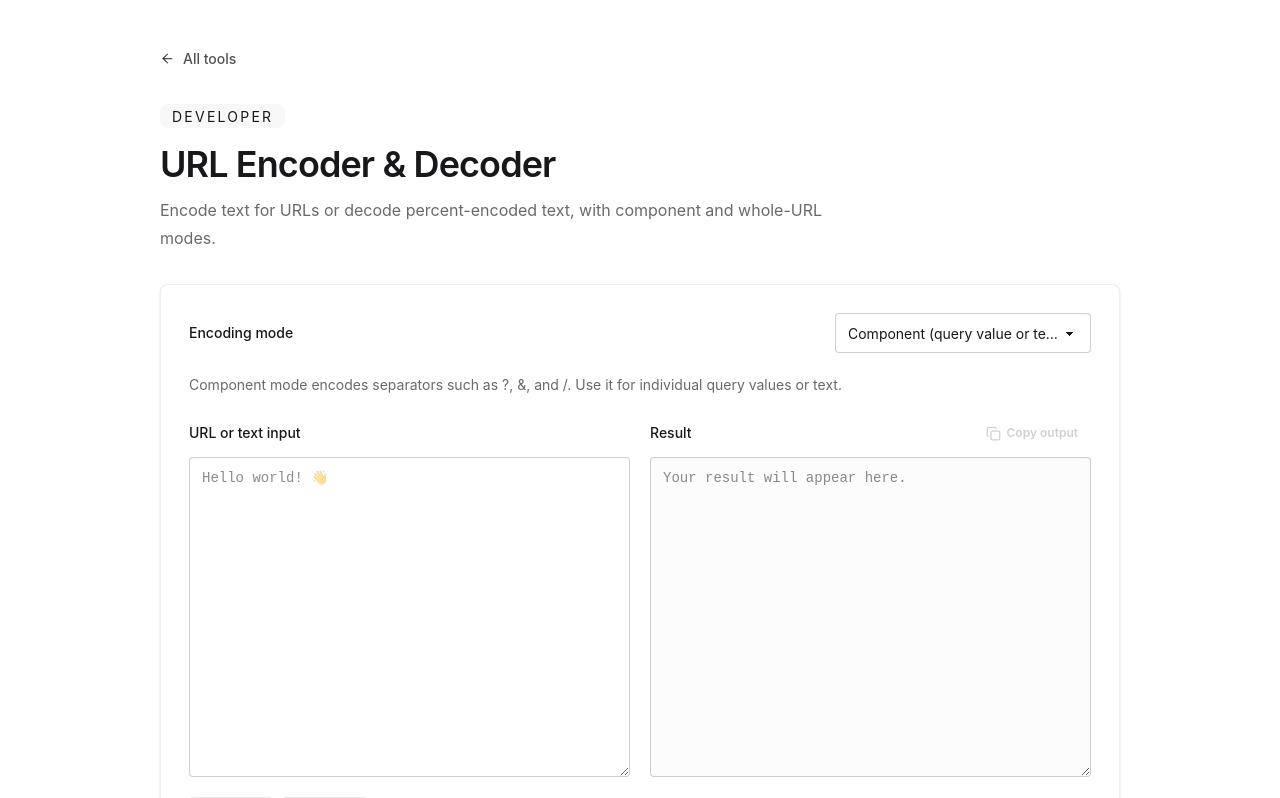
Test: defaults to component encoding and reuses output to decode
Type "a+b 👋" into the text box labelled "URL or text input".
click(410, 617); type("a+b 👋")  # box [189,457,630,777]
(page scrolled)
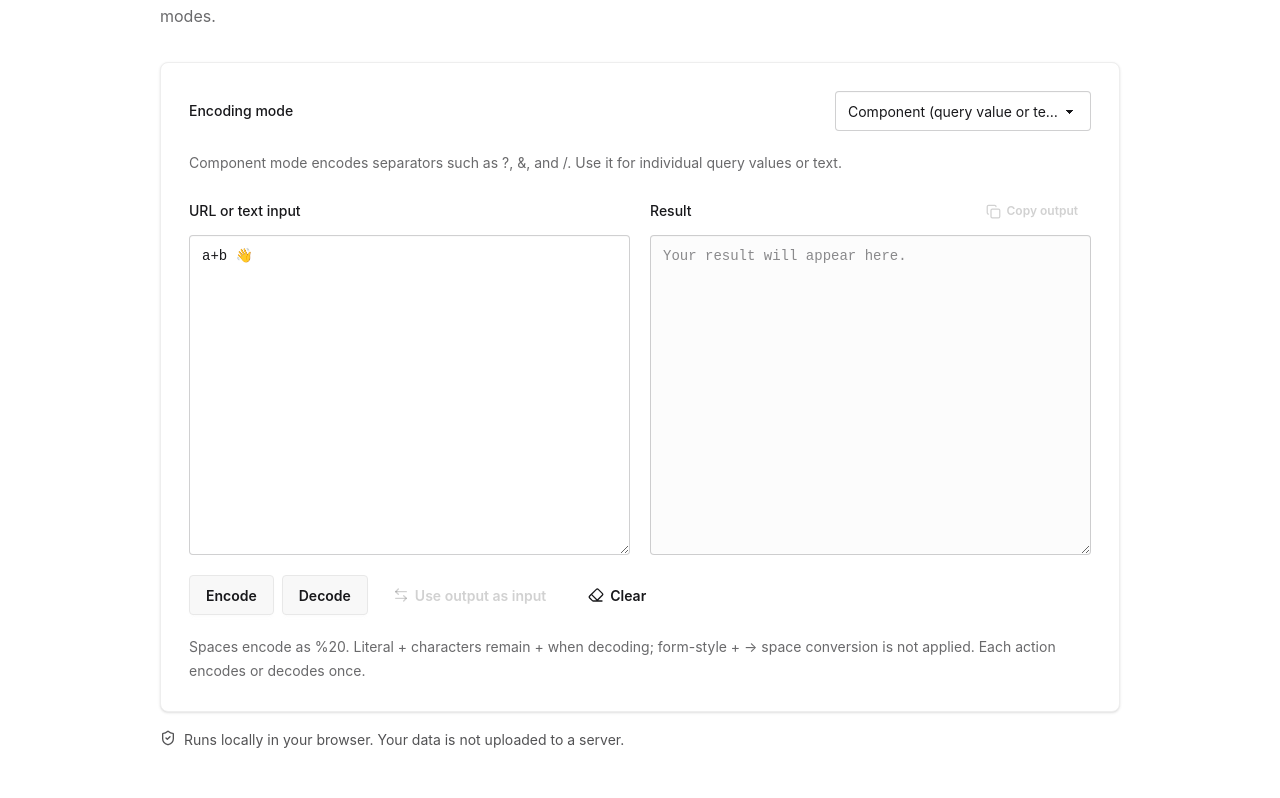
Click the button "Encode".
click(231, 595)  # box [189,575,274,615]
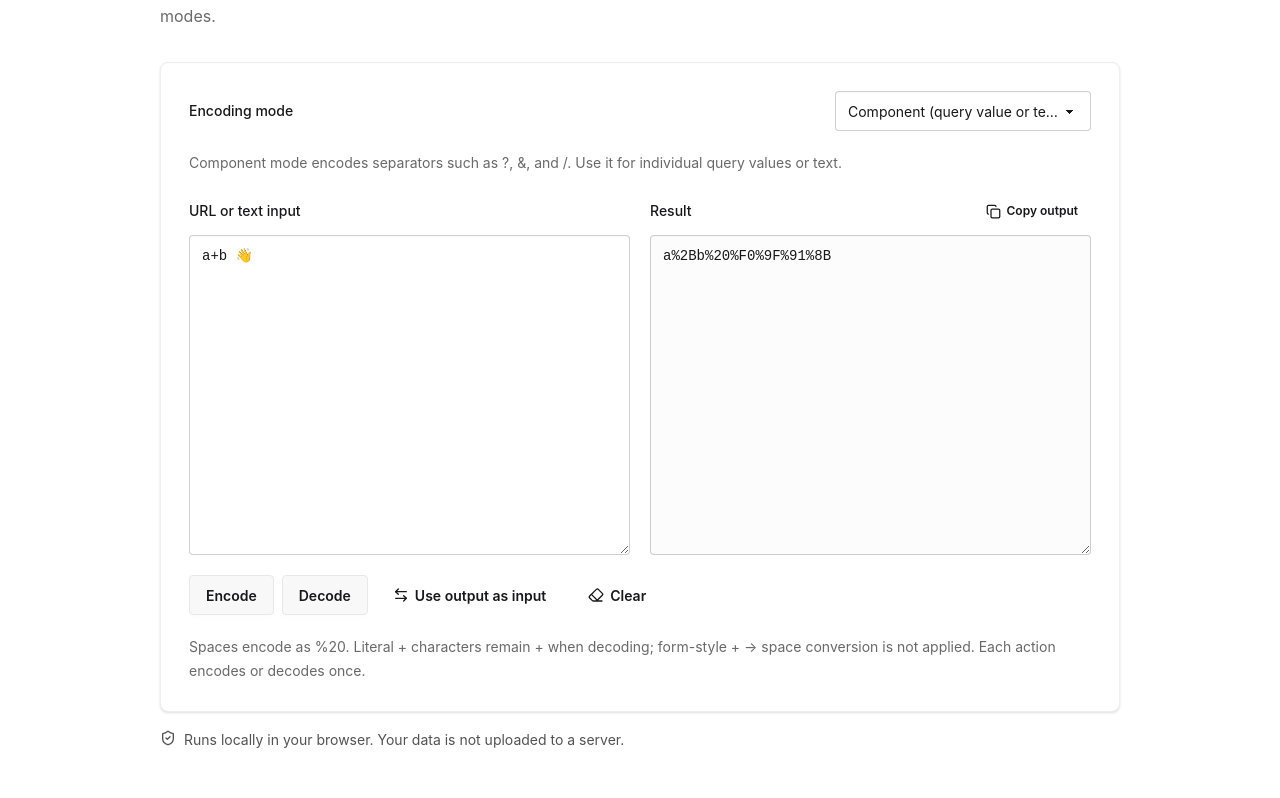
Expected: the text box labelled "Result" holds "a%2Bb%20%F0%9F%91%8B", [650,235,1091,555]
Click the button "Use output as input".
click(470, 595)  # box [376,575,563,615]
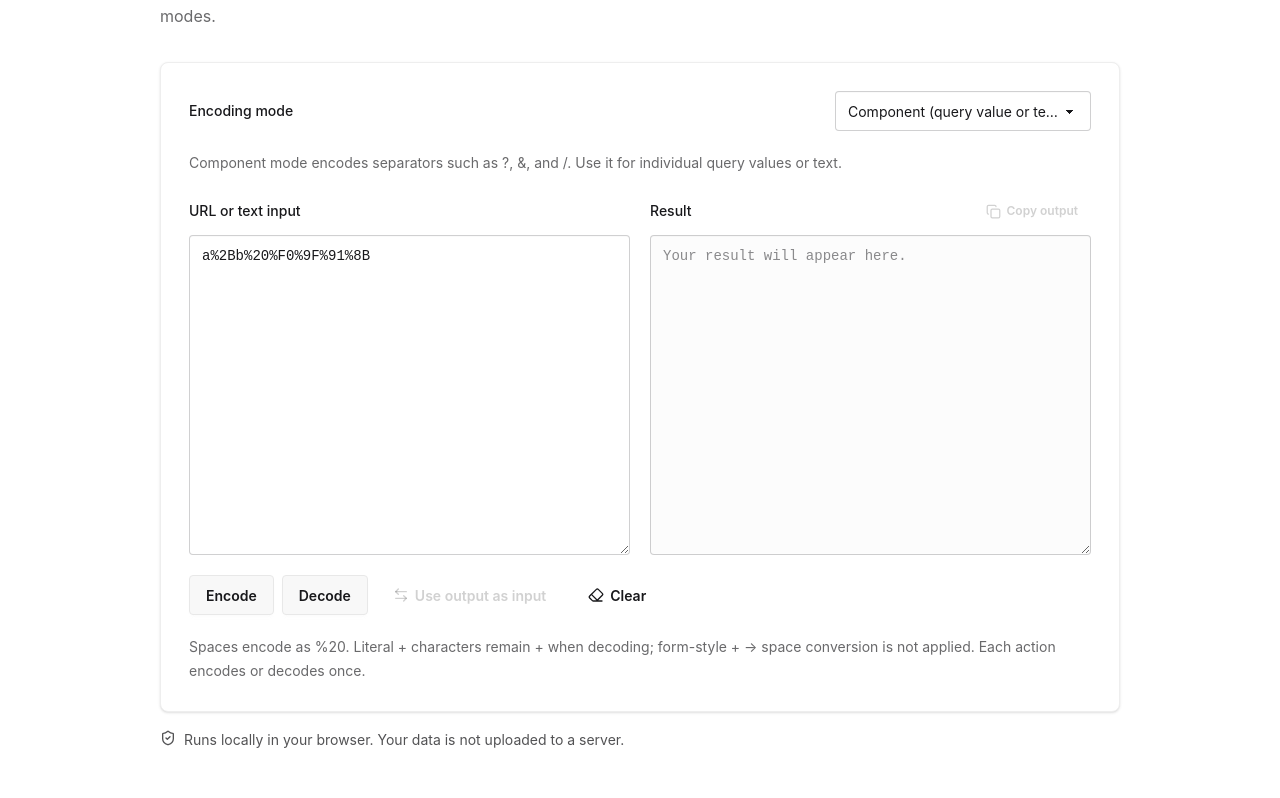
Click the button "Decode".
click(325, 595)  # box [282,575,368,615]
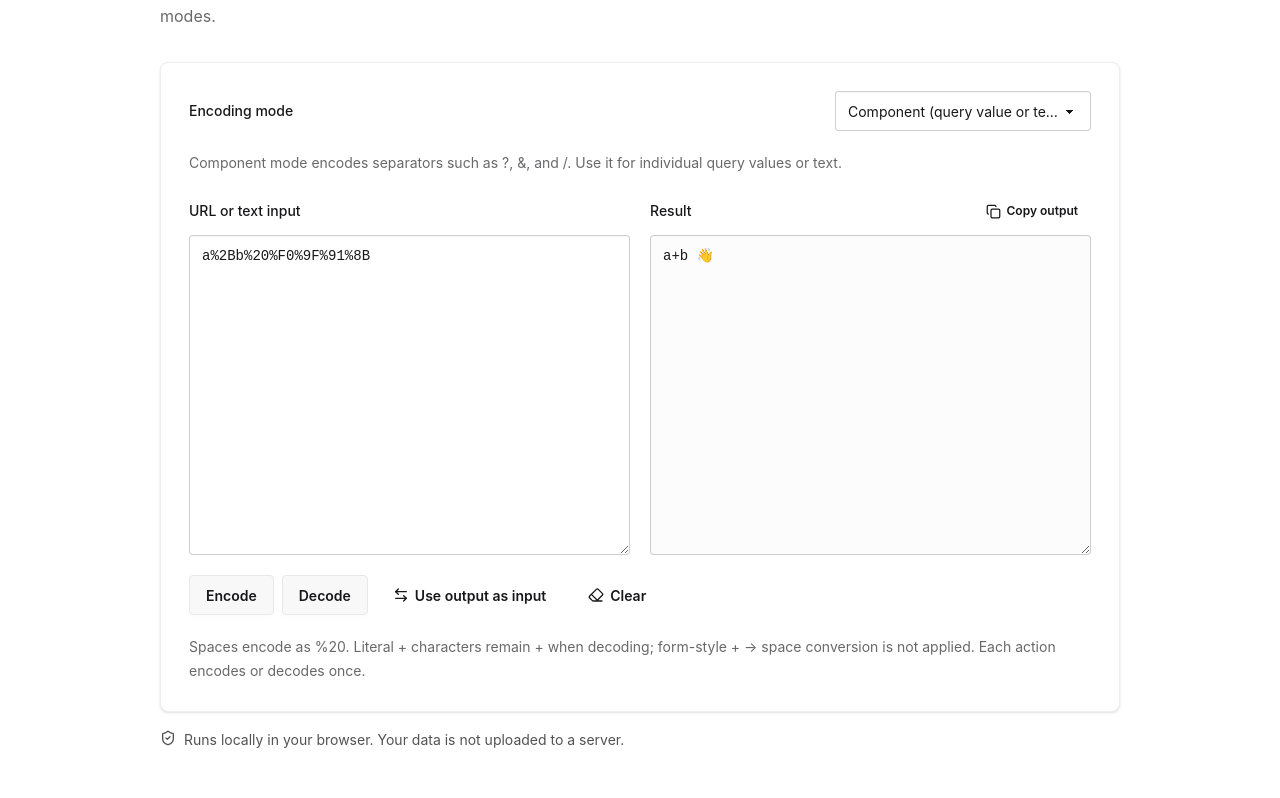
Expected: the text box labelled "Result" holds "a+b 👋", [650,235,1091,555]
